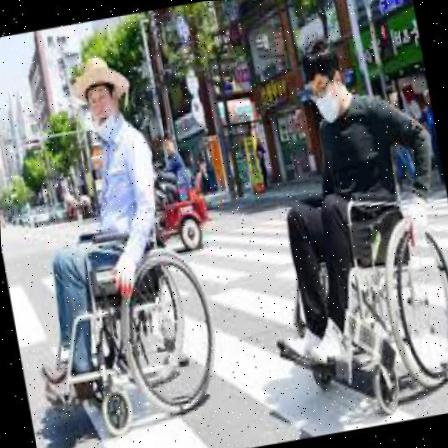wheel: (0, 46, 229, 447), (227, 23, 447, 435)
